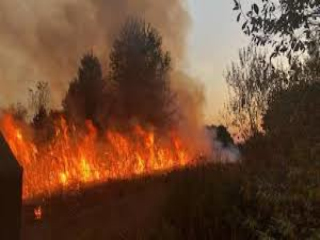fire: (1, 113, 240, 185)
smoke: (25, 8, 221, 110)
